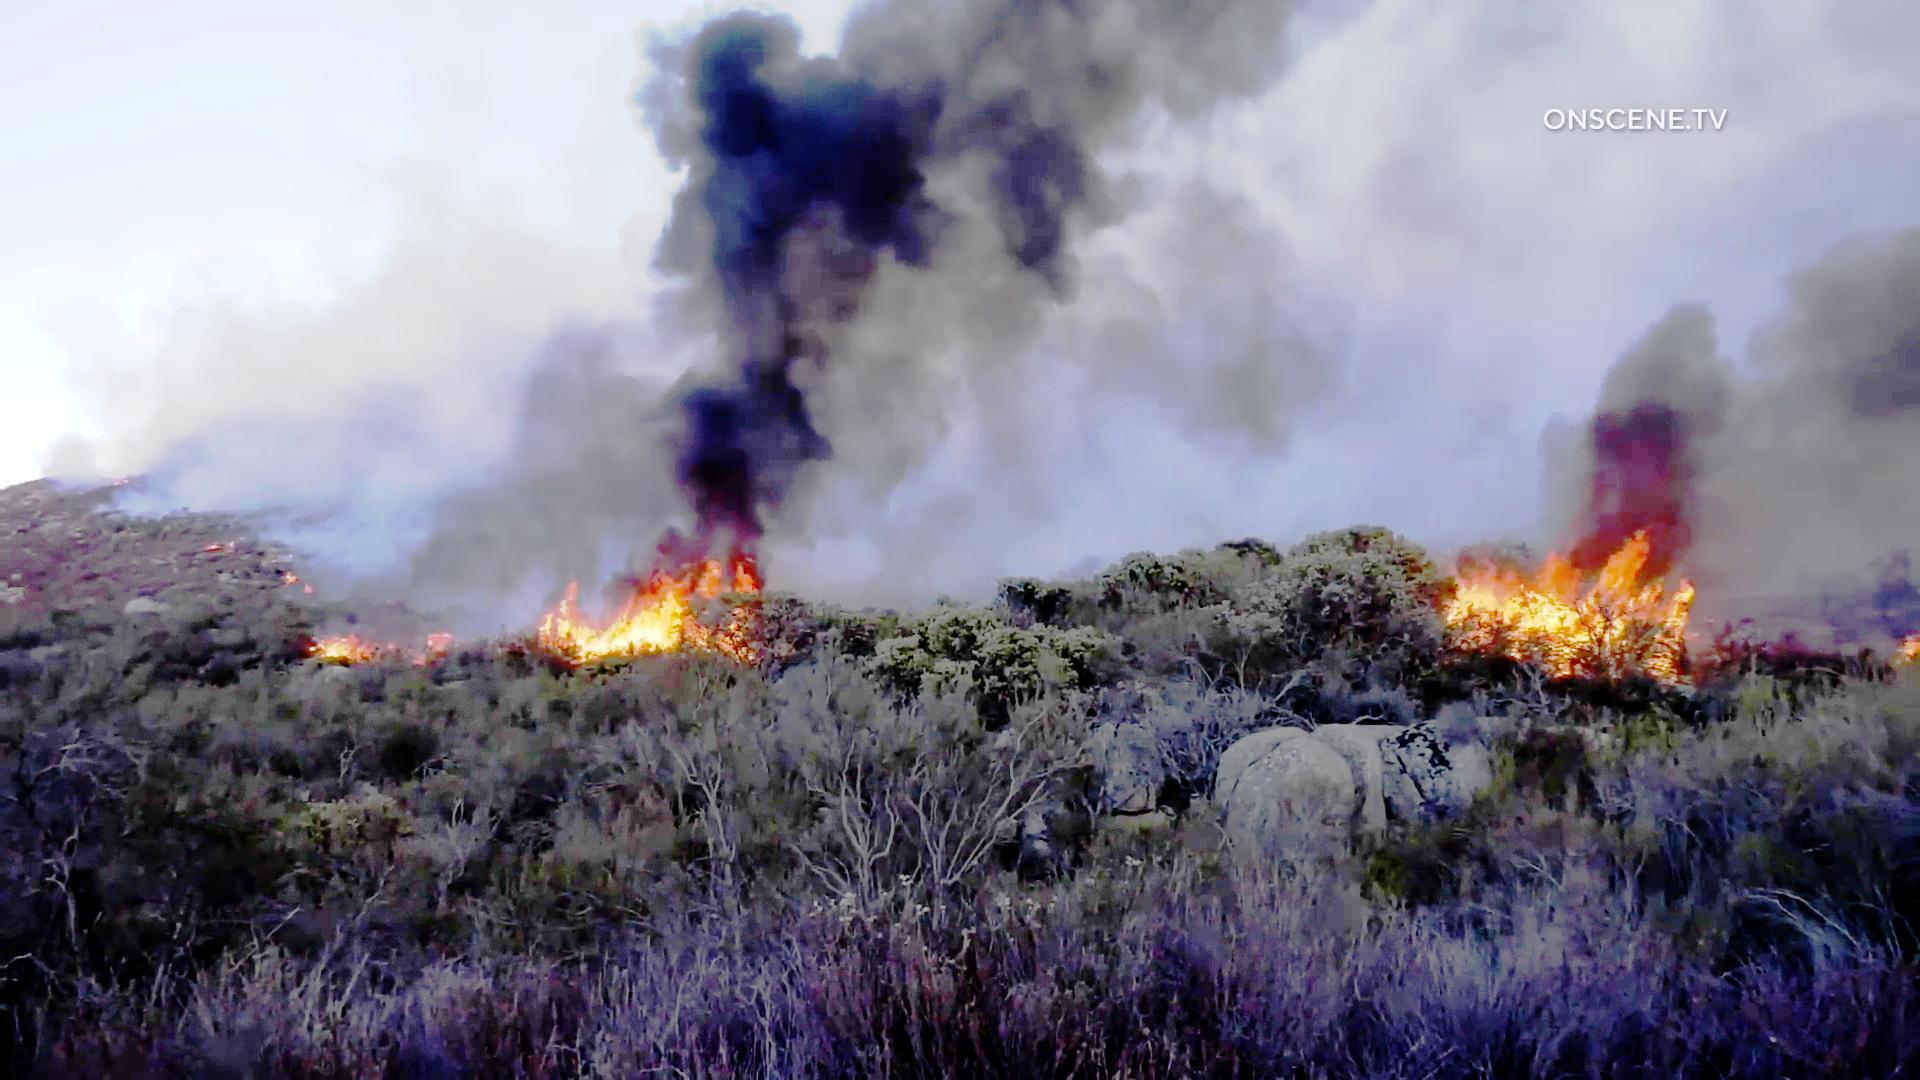fire: (1436, 541, 1735, 699), (541, 553, 748, 700)
smoke: (658, 0, 1279, 535)
